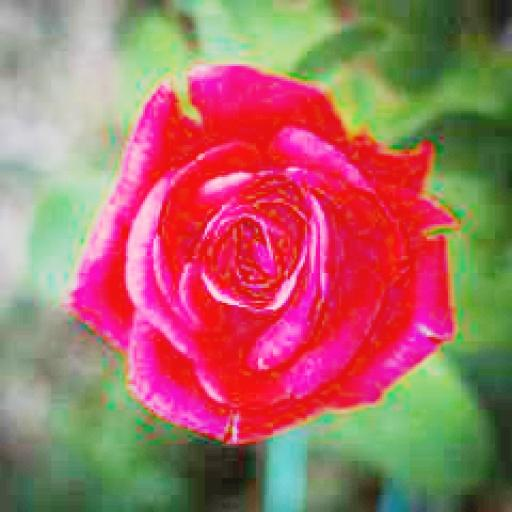rose: (62, 62, 456, 444)
